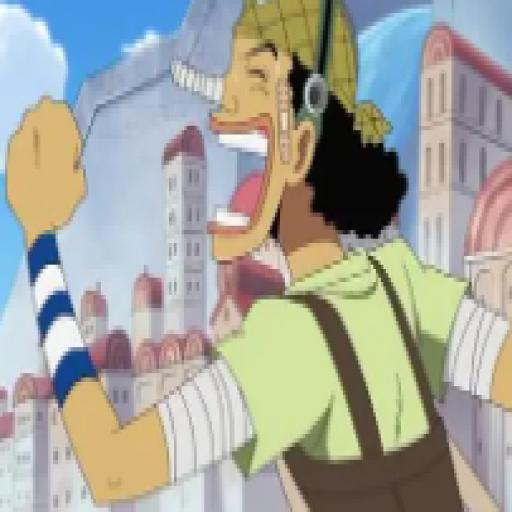Usopp: (5, 2, 512, 512)
